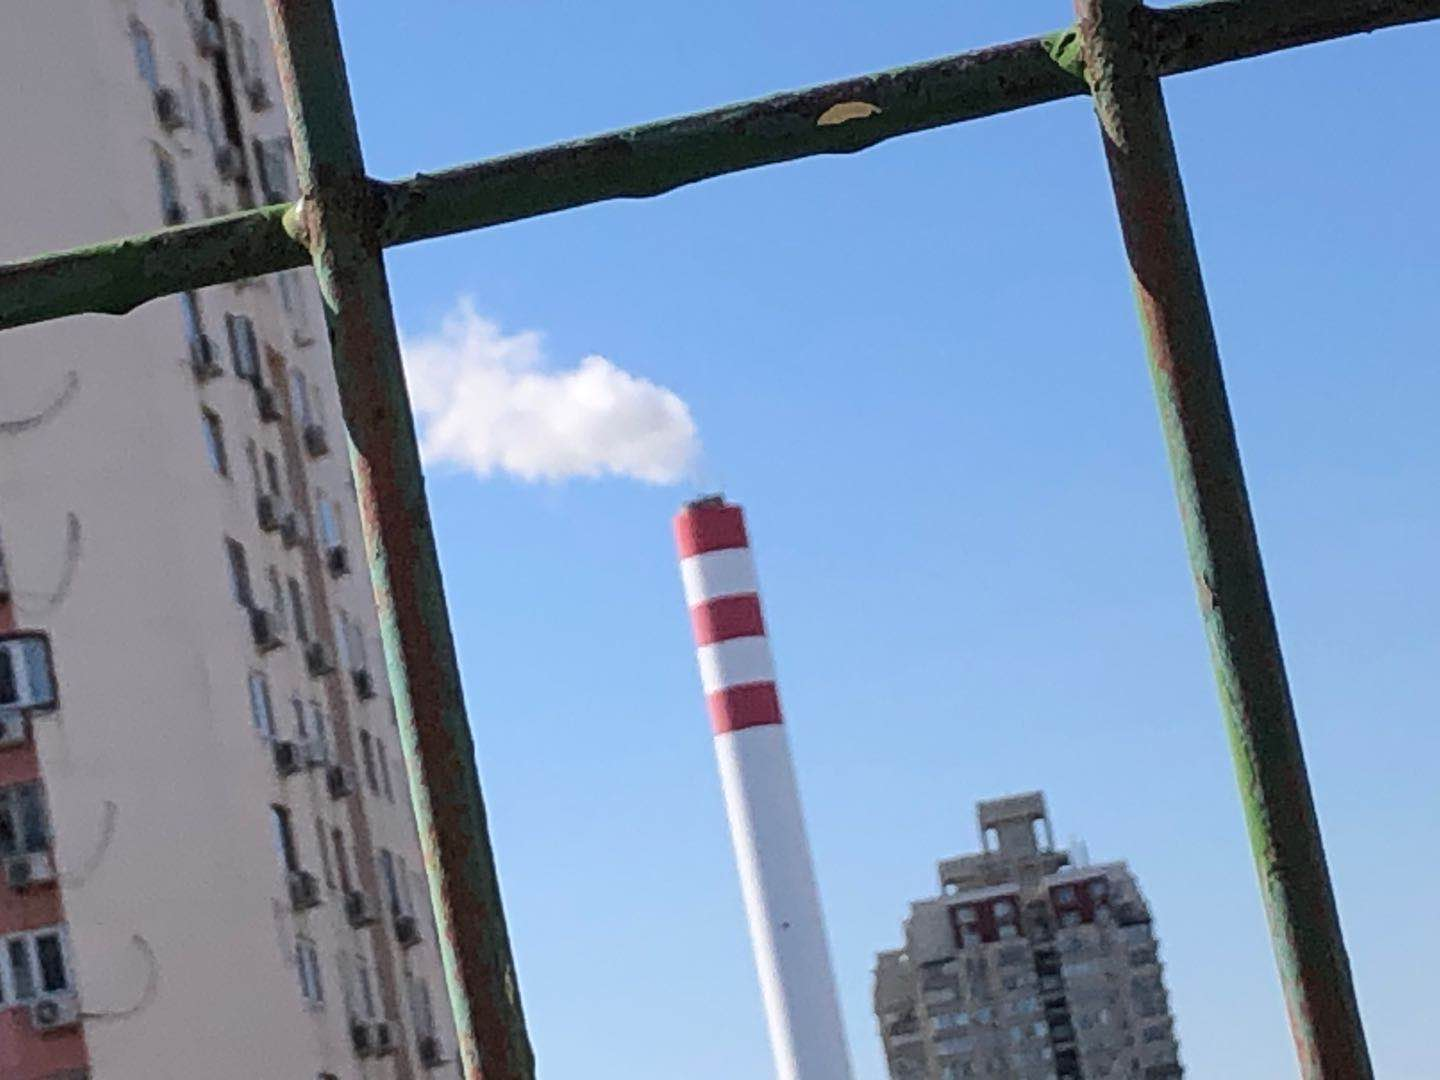yanwu: (397, 313, 704, 483)
